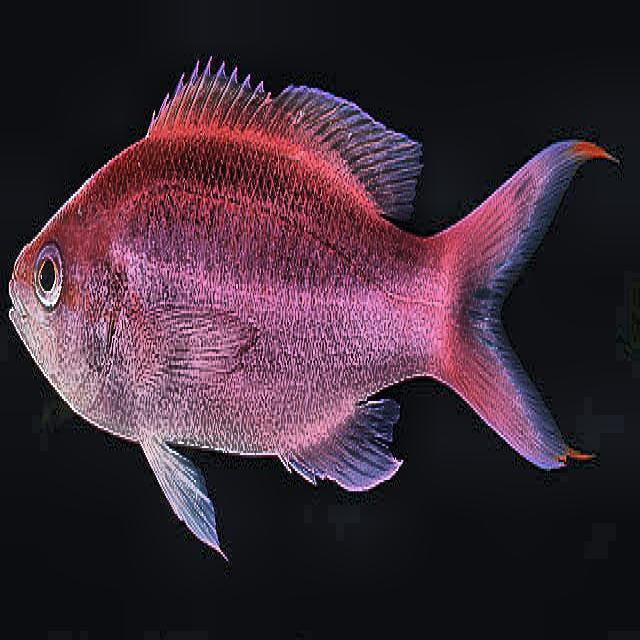fish: (9, 51, 621, 562)
